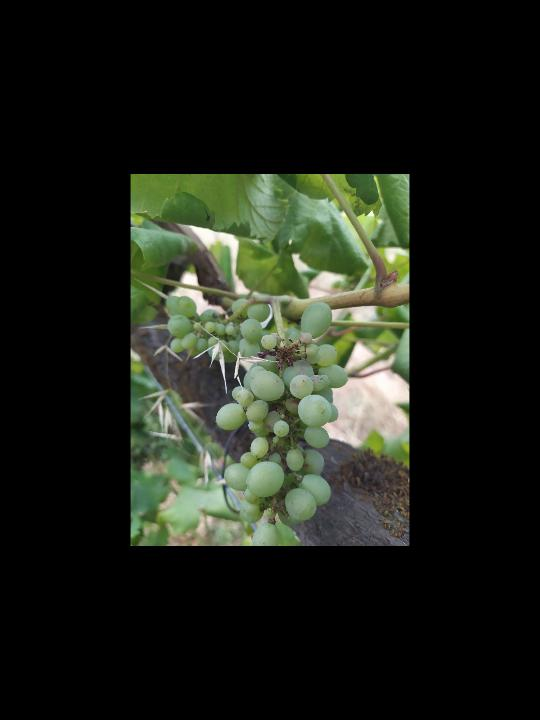grape: (215, 300, 350, 546)
